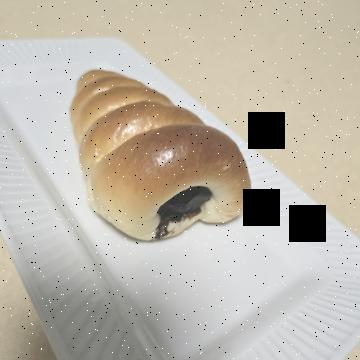cream horn: (62, 104, 281, 305)
